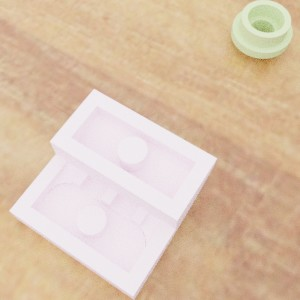lego: (9, 89, 217, 300), (231, 0, 292, 58)
